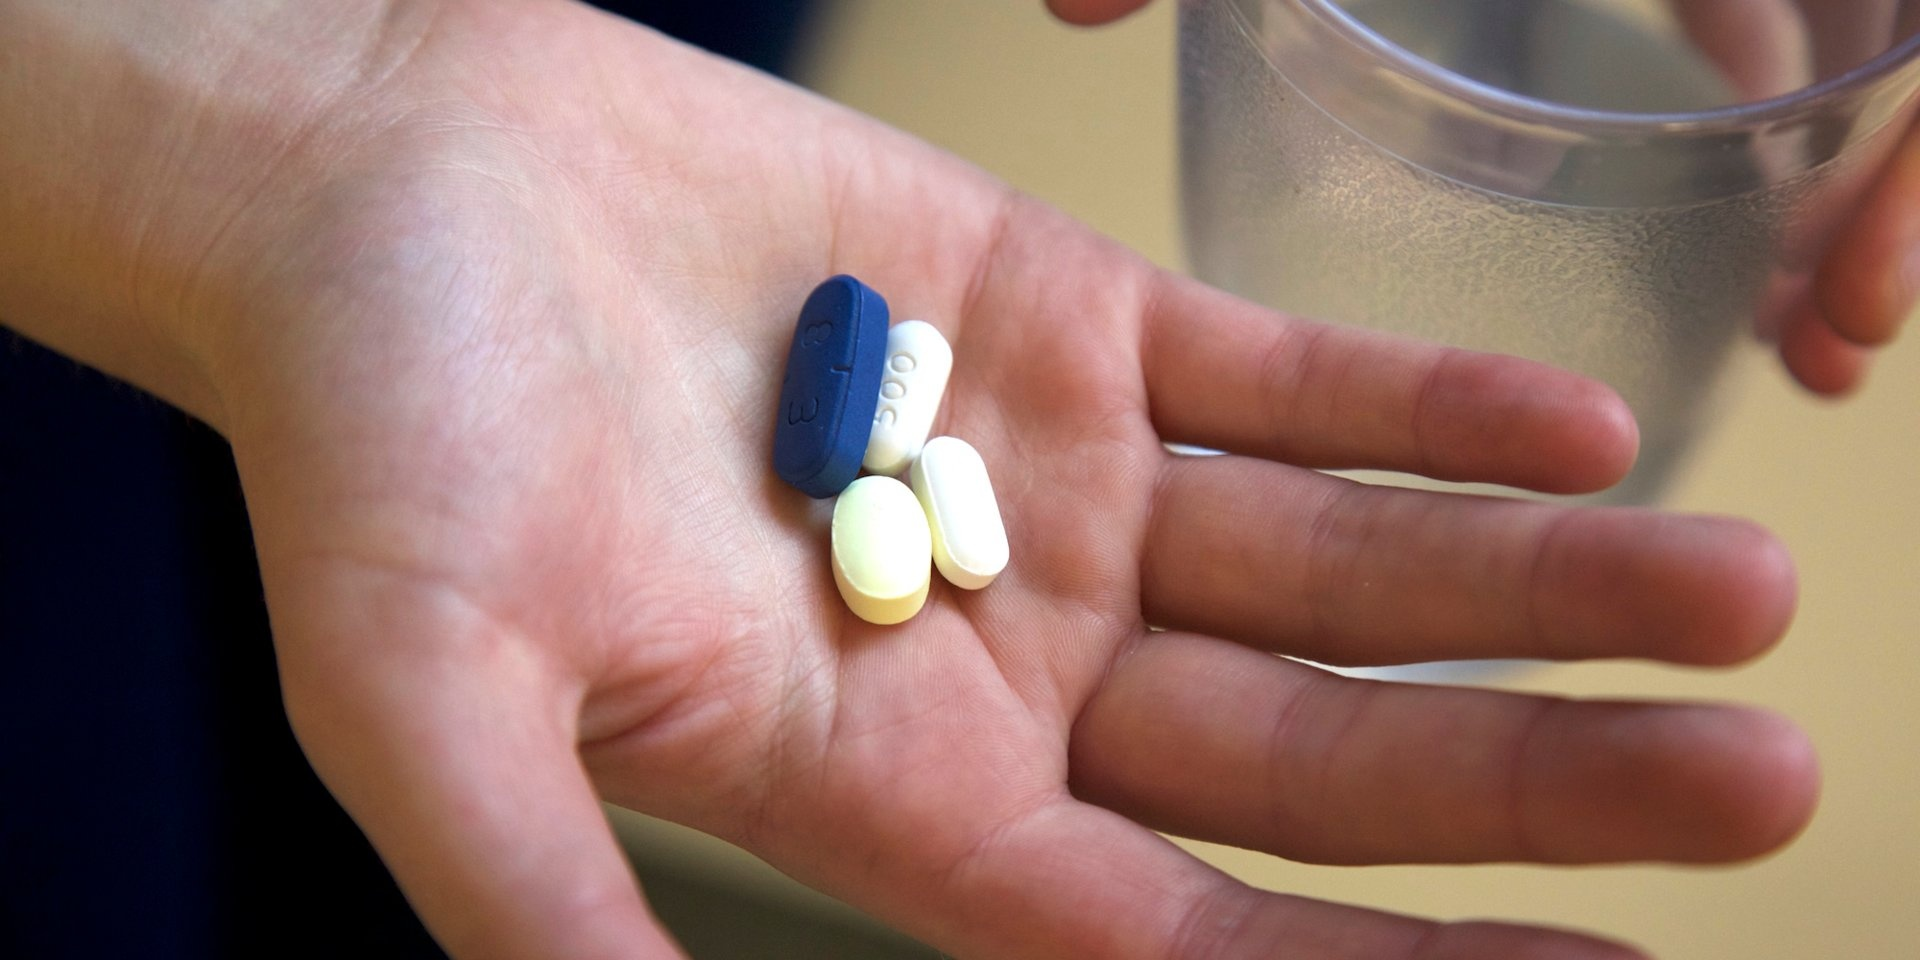pills: (769, 267, 894, 516), (840, 473, 942, 648), (924, 419, 1000, 624)
